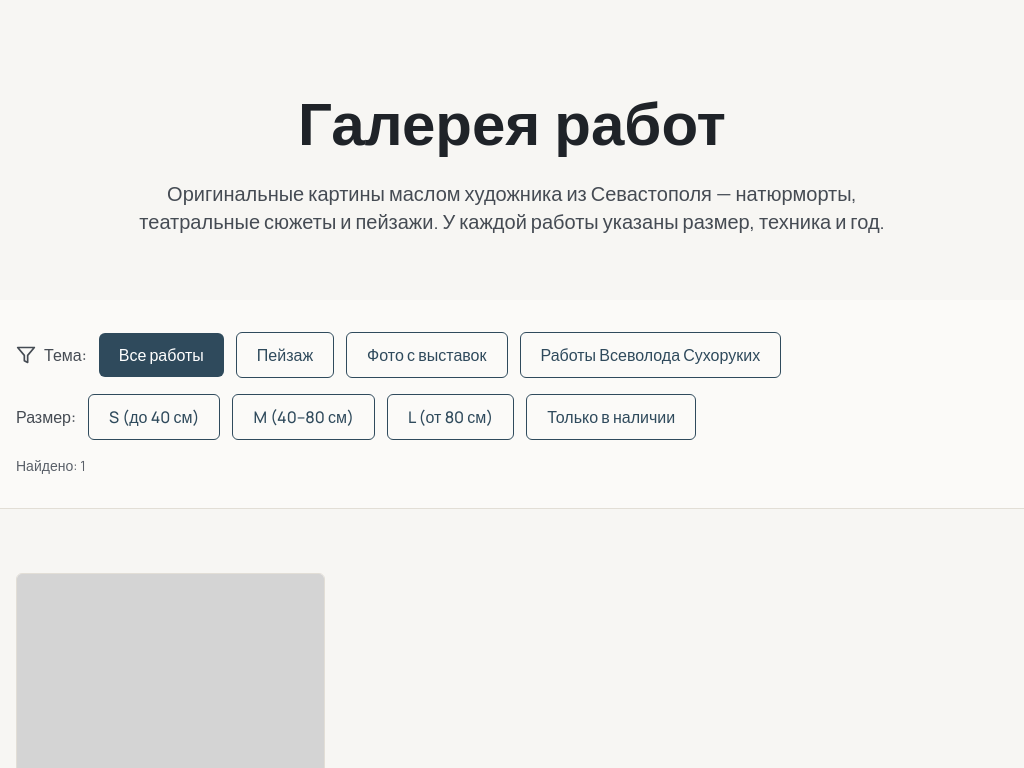
Test: catalogue filters (011 S5) › @US5-EC2 a work with one side only is dropped by any size filter
Click the button "M (40–80 см)" at (304, 417), box left=232, top=394, right=375, bottom=440
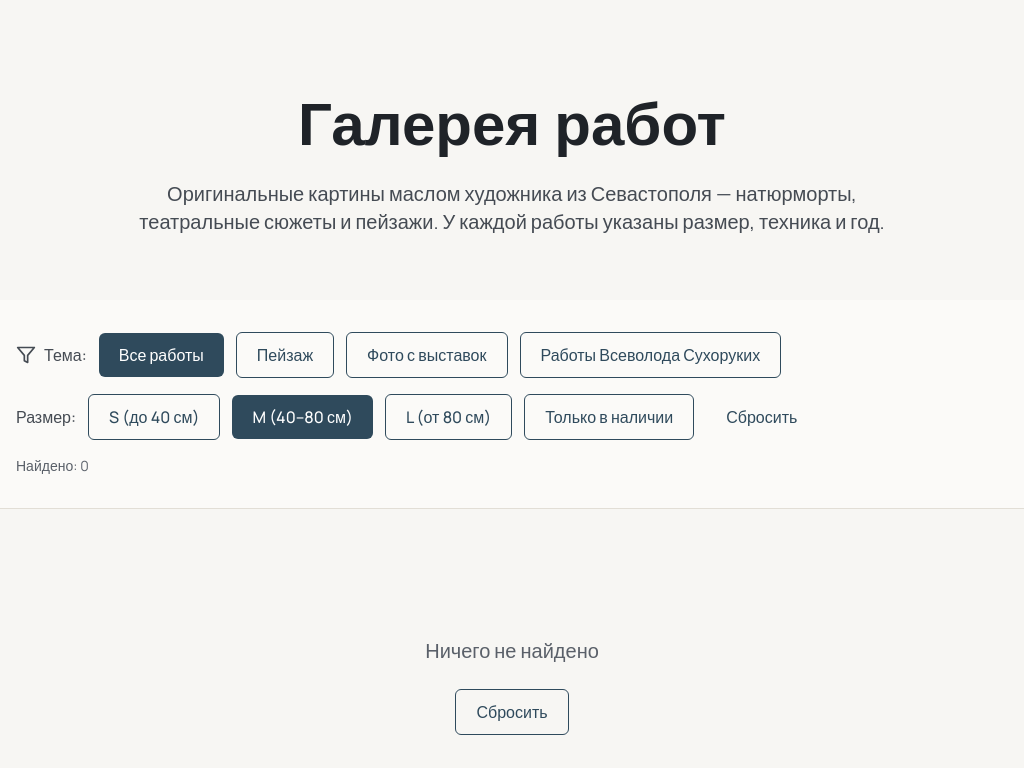
Check: the text "Ничего не найдено" is shown, box left=425, top=637, right=599, bottom=664
